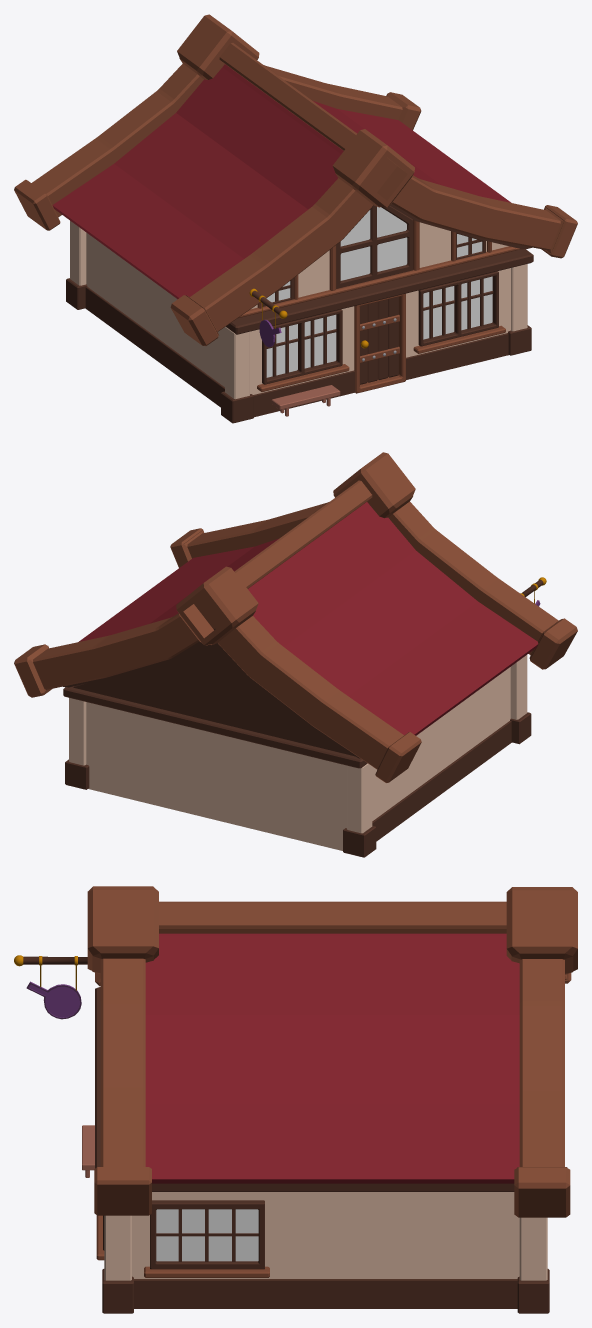
Rendered from PotionShop_Base.fbx.
3 views of the same model, one above another, from view 1: azimuth 30°, elevation 25°; view 2: azimuth 150°, elevation 25°; view 3: azimuth 270°, elevation 25° (orthographic). The views are drawn at different scales.
Parts seen in each view (by area): view 1: Glass; view 2: Glass; view 3: Glass.
Part boxes in pixels (x1,y1,x2,y2): Glass: [14, 14, 577, 423]; Glass: [14, 452, 577, 857]; Glass: [14, 886, 577, 1313].
Bounding box in the file's own units: 697 × 419 × 652.
